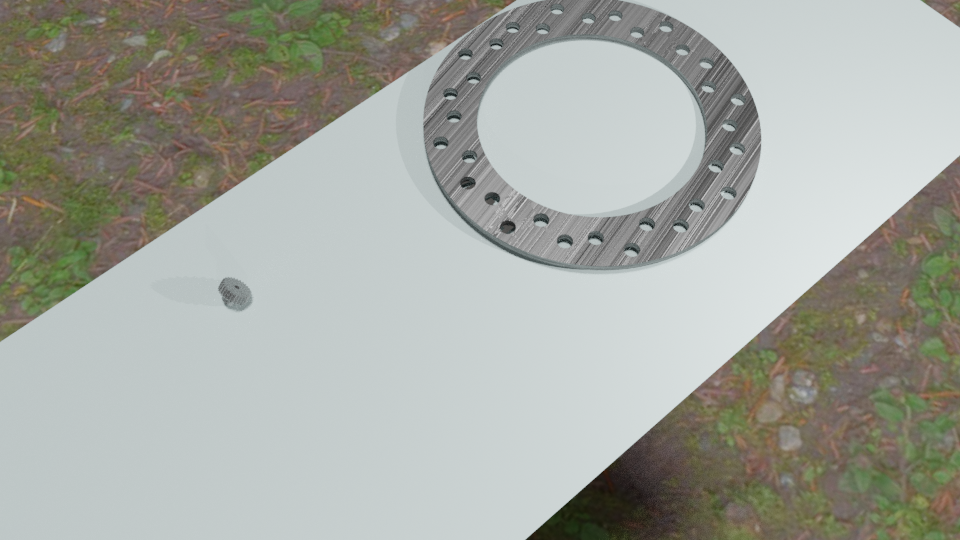yamaha_letters: (248, 176, 516, 292)
